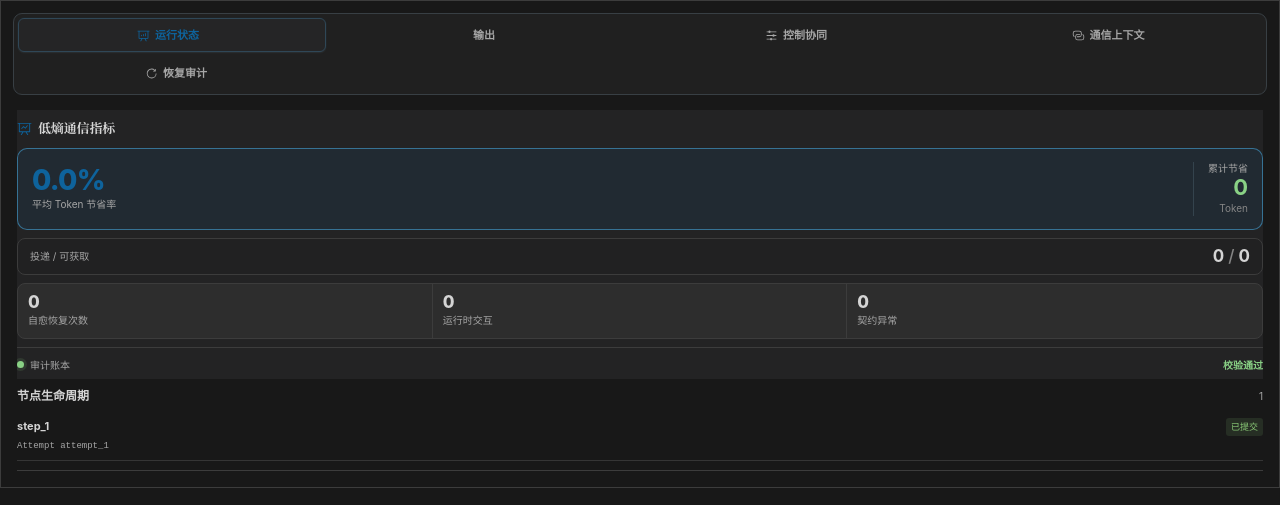
it: ACG capability panels › summarizes control and context capabilities without hiding their details
Click the tab "控制协同". click: (796, 35)
box: [765, 28, 827, 42]
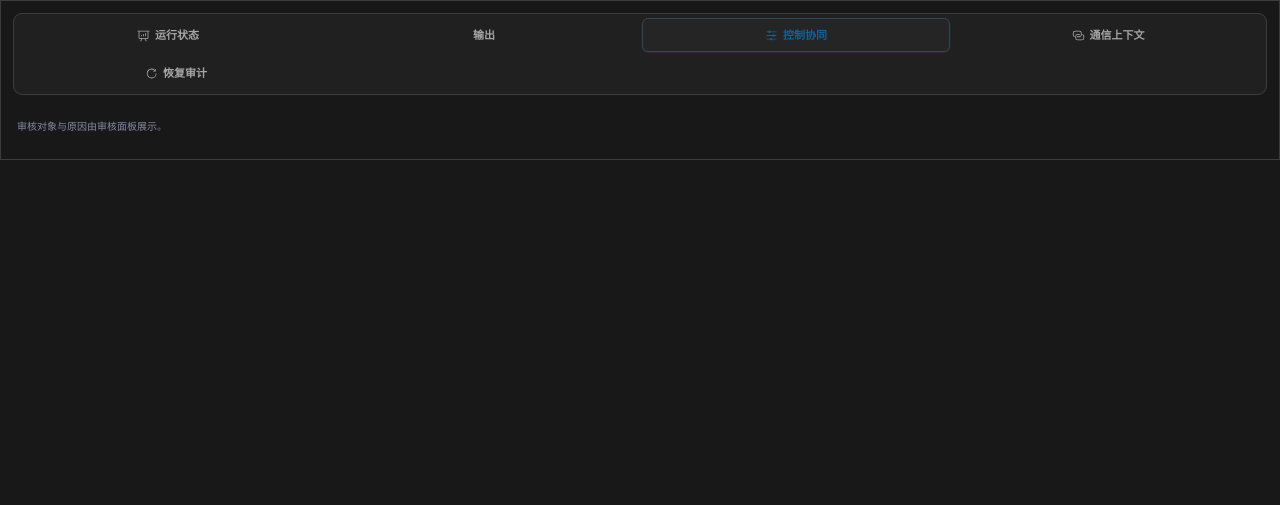
Expected: the text "审核对象与原因由审核面板展示" is shown, [17, 120, 167, 132]
Click the tab "通信上下文". click: (1108, 35)
box: [1072, 28, 1144, 42]
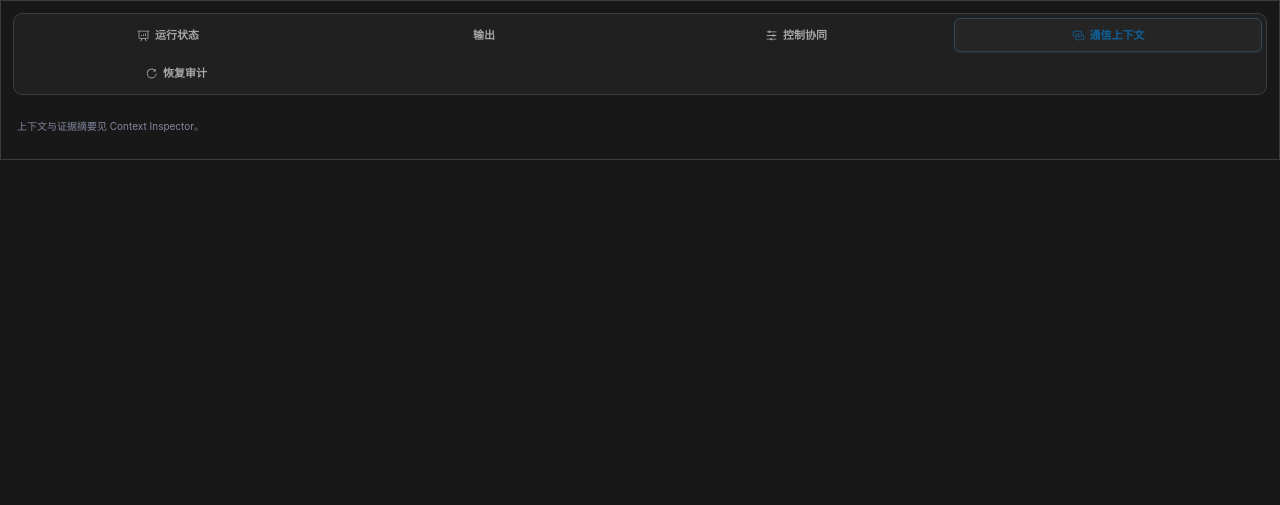
Expected: the text "Context Inspector" is shown, [17, 120, 204, 132]
